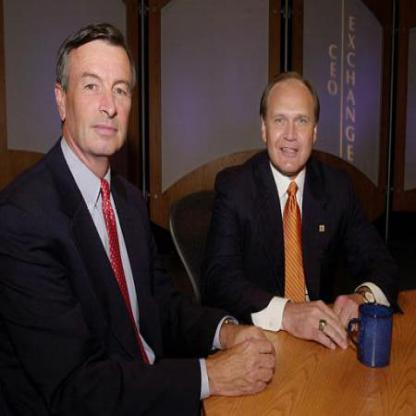face: (65, 29, 139, 161), (266, 75, 317, 174)
